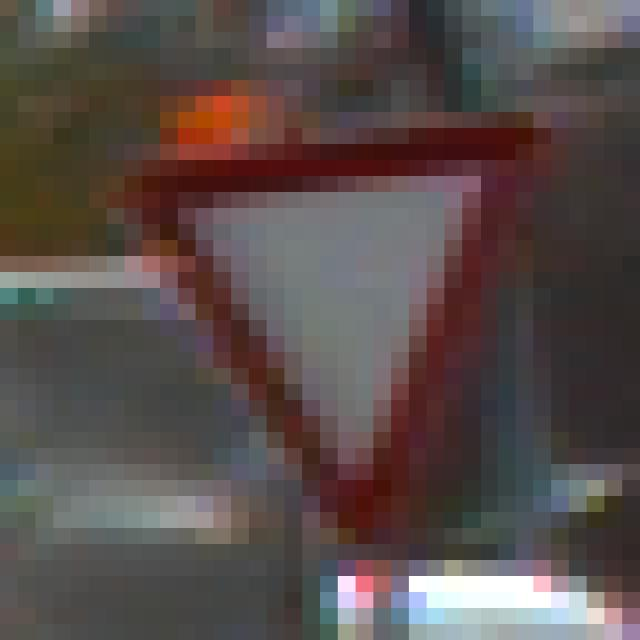Give Way: (108, 97, 552, 561)
